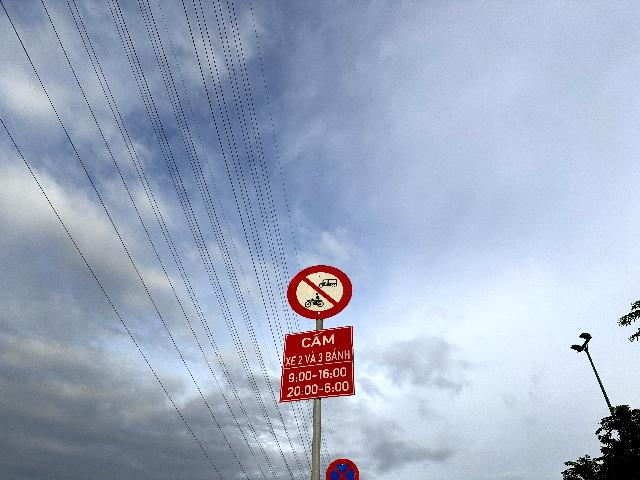cam-xe-2-banh-3-banh: (286, 265, 353, 320)
